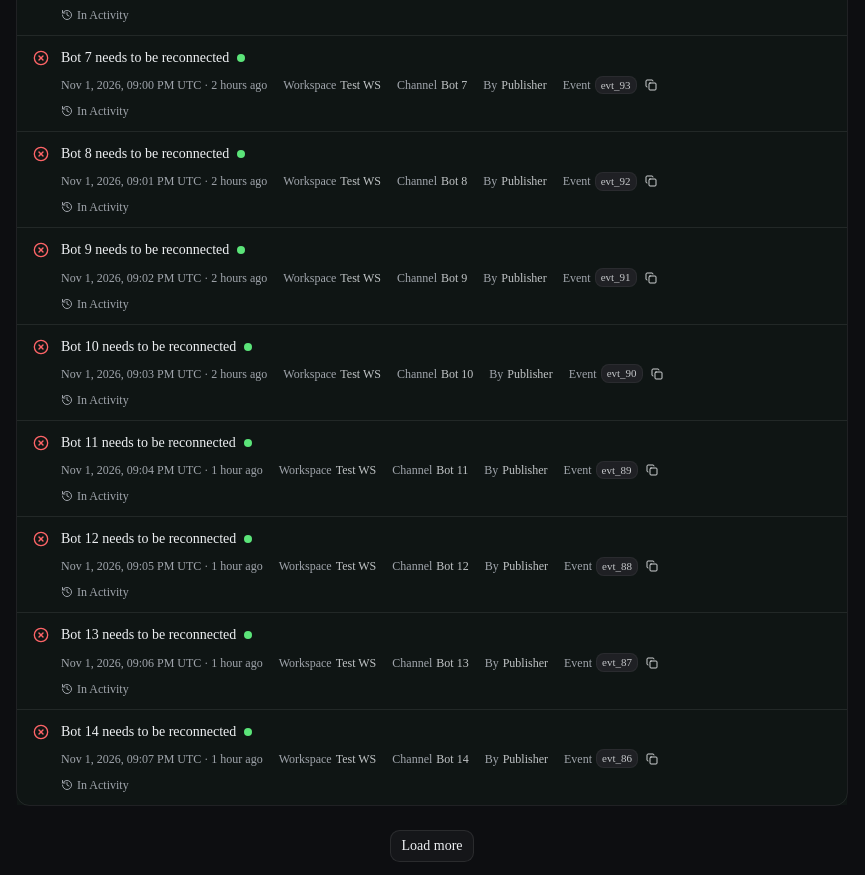
it: notifications › the page shows 15 notifications at a time, whatever their day, and loads 15 more
(page scrolled)
Click the button "Load more" at [432, 846], box x1=390 y1=830 x2=474 y2=862
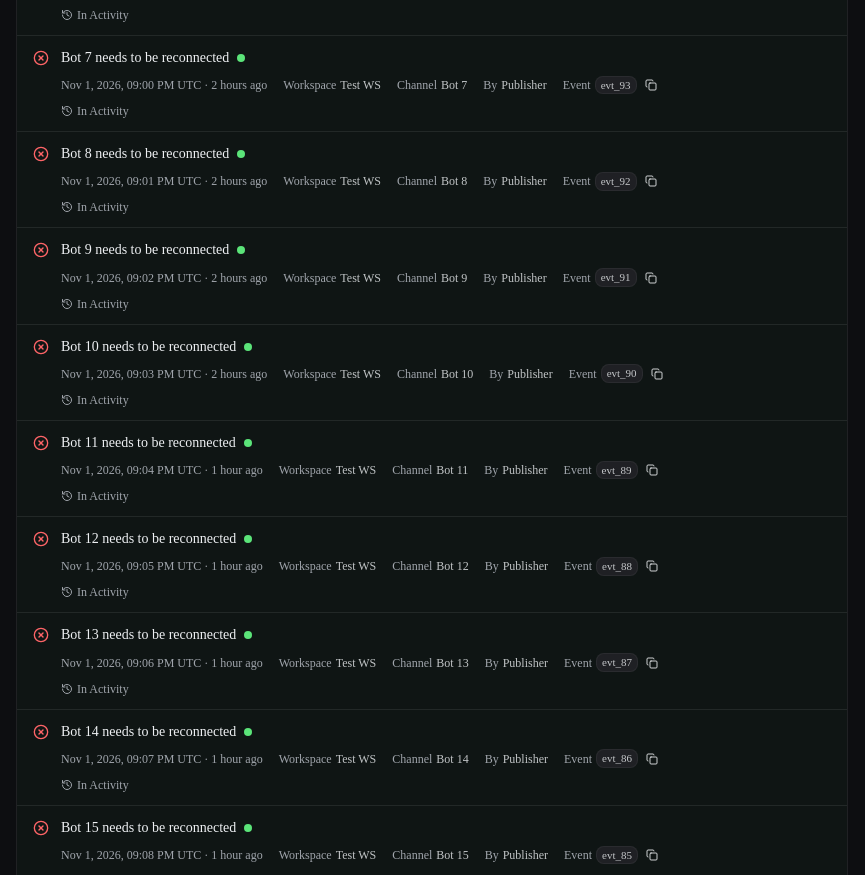
Check: the button "Load more" is gone
